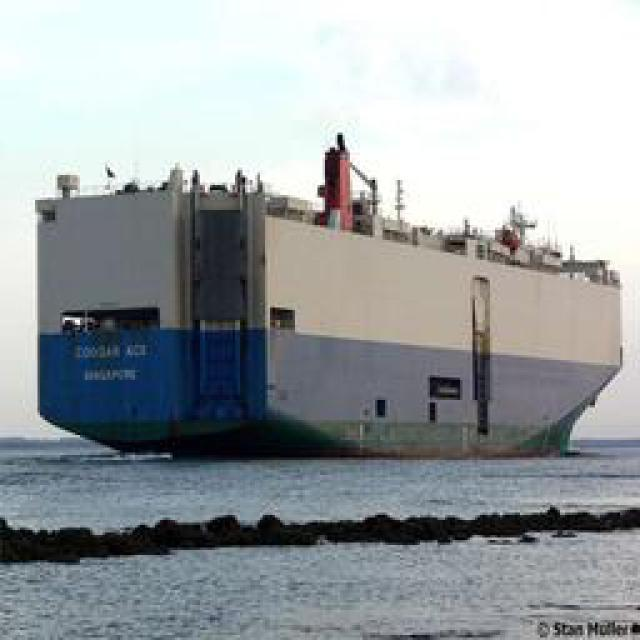Ship: (46, 180, 616, 470)
